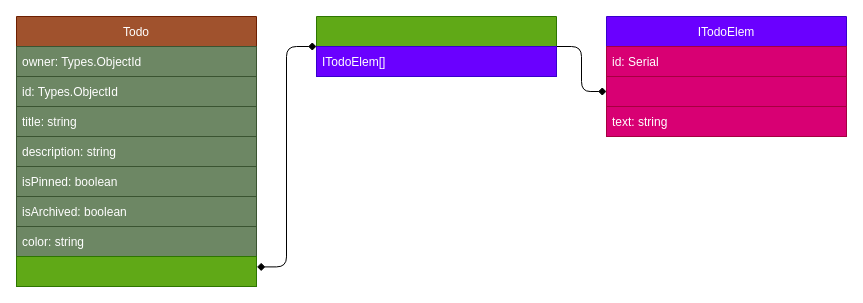
Some shapes in this 863 by 303 pixel diagram are drawn without their labels. Each missing label, with the box of its shape:
body: ITodoBody: (16, 256, 256, 286)
isDone: boolean: (606, 76, 846, 106)
ITodoBody: (316, 16, 556, 76)
